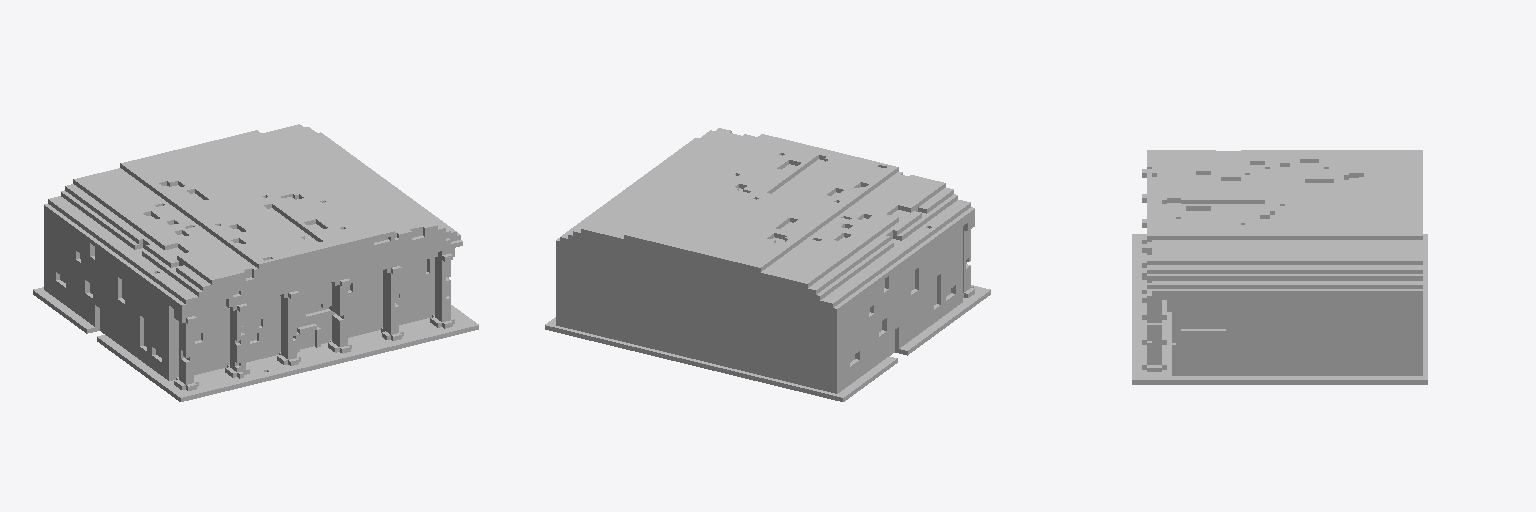
File: manor t2.obj
3 views of the same model, side by side, from view 1: azimuth 30°, elevation 25°; view 2: azimuth 150°, elevation 25°; view 3: azimuth 270°, elevation 25° (orthographic).
Parts seen in each view (by area): view 1: object 1; view 2: object 1; view 3: object 1.
Part boxes in pixels (x1,y1,x2,y2): object 1: (33,124,478,401); object 1: (545,128,990,401); object 1: (1132,150,1427,384).
Bounding box in the file's own units: 7 × 2.5 × 6.